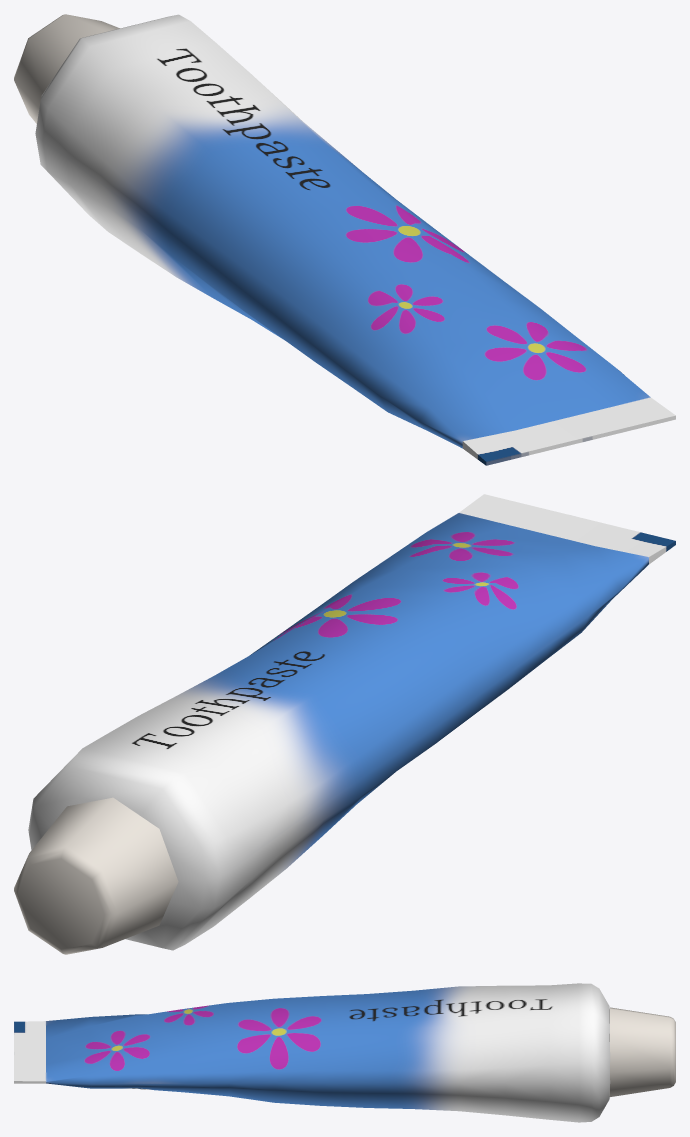
File: Toothpaste_LOD2.fbx
3 renders of one model, top to bottom at view 1: azimuth 30°, elevation 25°; view 2: azimuth 150°, elevation 25°; view 3: azimuth 270°, elevation 25°, orthographic. The views are drawn at different scales.
Visible parts, largest first — view 1: Tube_LOD2, Cap_LOD2; view 2: Tube_LOD2, Cap_LOD2; view 3: Tube_LOD2, Cap_LOD2.
Boxes of the visible parts, x1,y1,x2,y2 form: Tube_LOD2: [35, 14, 675, 465]; Cap_LOD2: [14, 14, 119, 123]; Tube_LOD2: [28, 494, 675, 950]; Cap_LOD2: [14, 797, 178, 954]; Tube_LOD2: [14, 983, 610, 1122]; Cap_LOD2: [609, 1007, 675, 1096].
Bounding box in the file's own units: 0.0293 × 0.128 × 0.0231.
